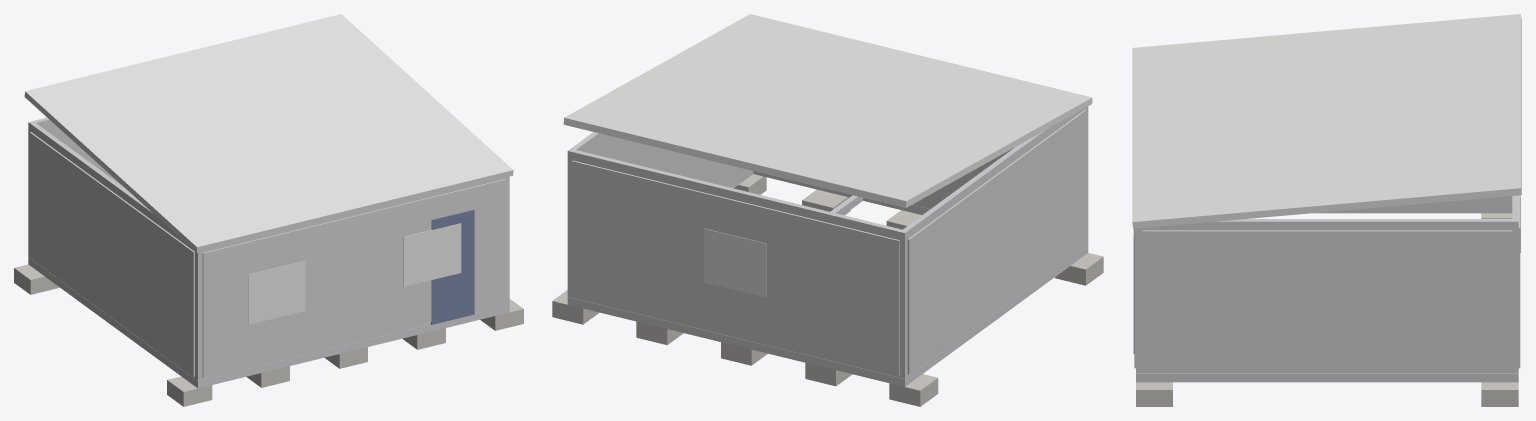
File: Studio-20-SlopingRoof+FullSolar-LOD3.glb
3 views of the same model, side by side, from view 1: azimuth 30°, elevation 25°; view 2: azimuth 150°, elevation 25°; view 3: azimuth 270°, elevation 25° (orthographic). The views are drawn at different scales.
Parts seen in each view (by area): view 1: RoofSlopingUpgrade, ExteriorPanelsStandard, WindowsStandard, ExteriorShell, FoundationBlocks, BaseFrame, EntryDoor, TopFrame; view 2: ExteriorPanelsStandard, RoofSlopingUpgrade, ExteriorShell, FoundationBlocks, BaseFrame, TopFrame, WindowsStandard; view 3: RoofSlopingUpgrade, ExteriorPanelsStandard, BaseFrame, ExteriorShell, TopFrame, FoundationBlocks.
Boxes of the visible parts, x1,y1,x2,y2 form: RoofSlopingUpgrade: (24, 14, 513, 252); ExteriorPanelsStandard: (29, 132, 505, 377); WindowsStandard: (248, 223, 461, 324); ExteriorShell: (28, 124, 509, 380); FoundationBlocks: (14, 264, 523, 406); BaseFrame: (28, 257, 509, 388); EntryDoor: (431, 209, 474, 324); TopFrame: (28, 117, 181, 239); ExteriorPanelsStandard: (572, 109, 1086, 375); RoofSlopingUpgrade: (563, 14, 1092, 207); ExteriorShell: (567, 106, 1088, 378); FoundationBlocks: (552, 174, 1103, 406); BaseFrame: (567, 169, 1088, 386); TopFrame: (567, 113, 1075, 238); WindowsStandard: (704, 228, 766, 297); RoofSlopingUpgrade: (1132, 14, 1521, 228); ExteriorPanelsStandard: (1134, 195, 1520, 371); BaseFrame: (1136, 205, 1518, 382); ExteriorShell: (1136, 196, 1518, 373); TopFrame: (1152, 195, 1518, 227); FoundationBlocks: (1136, 213, 1518, 406).
Size of the model in its own units: 7.14 by 3.77 by 6.27.
